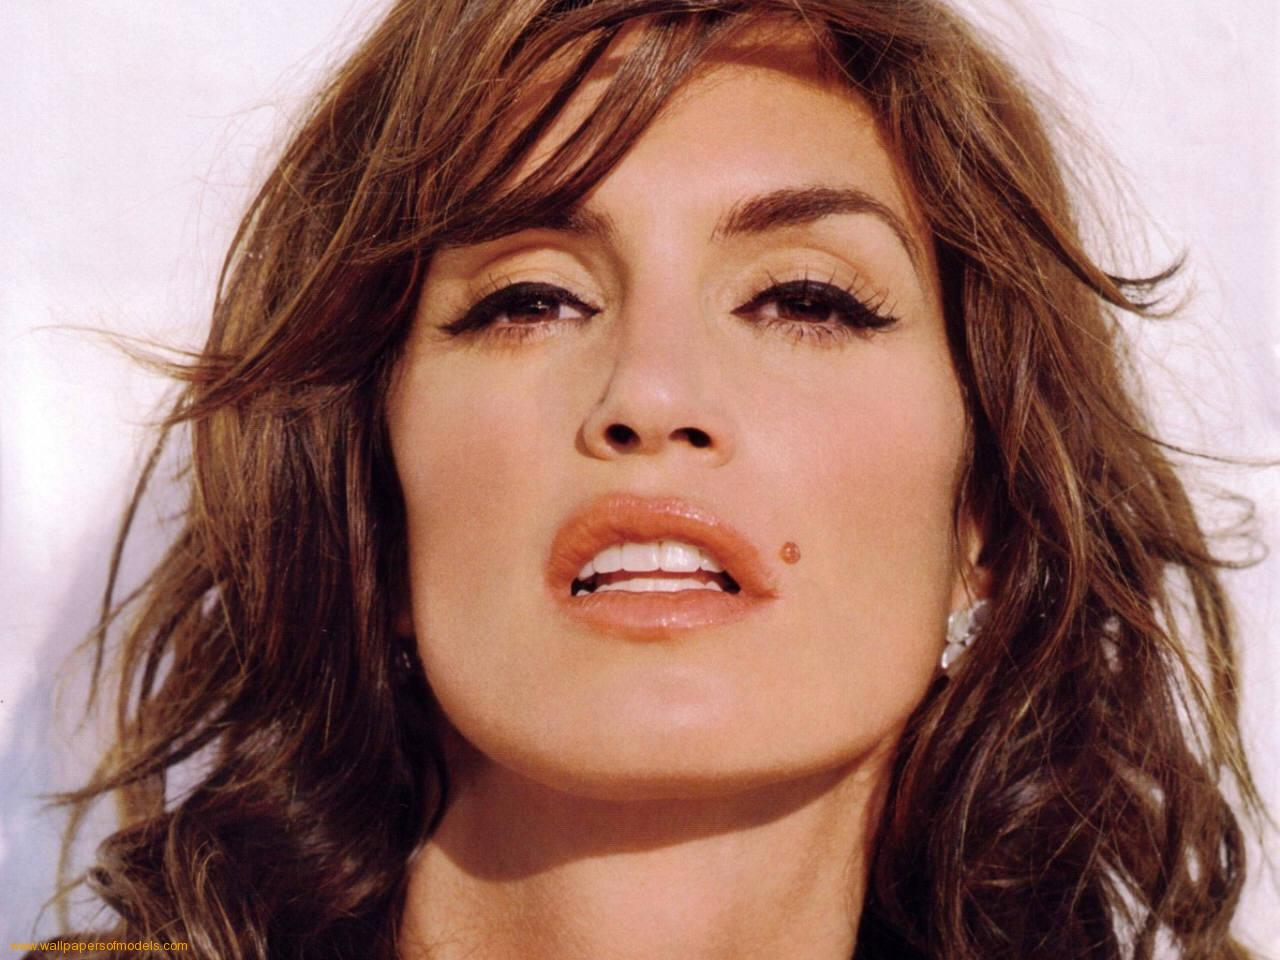mole: (772, 538, 811, 571)
